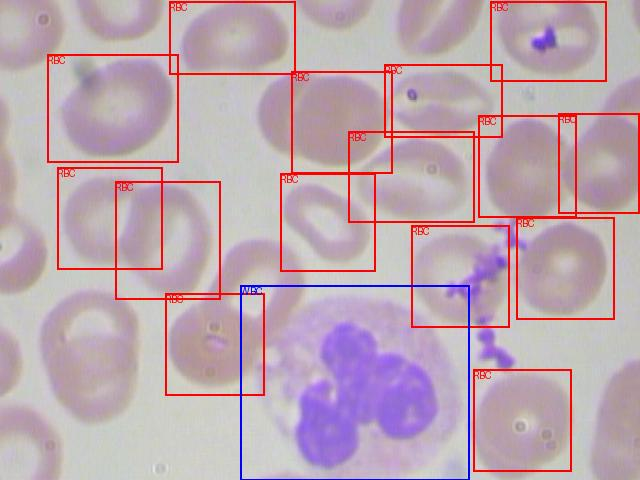RBC: (47, 54, 178, 162), (115, 181, 220, 299), (348, 131, 474, 222), (57, 167, 162, 269), (291, 71, 392, 173), (165, 293, 264, 395), (516, 217, 614, 319), (411, 225, 509, 327), (478, 115, 576, 217), (473, 369, 571, 471), (280, 173, 375, 271), (490, 1, 606, 81), (169, 1, 295, 74), (384, 64, 502, 137), (558, 113, 639, 213)
WBC: (240, 285, 469, 480)
